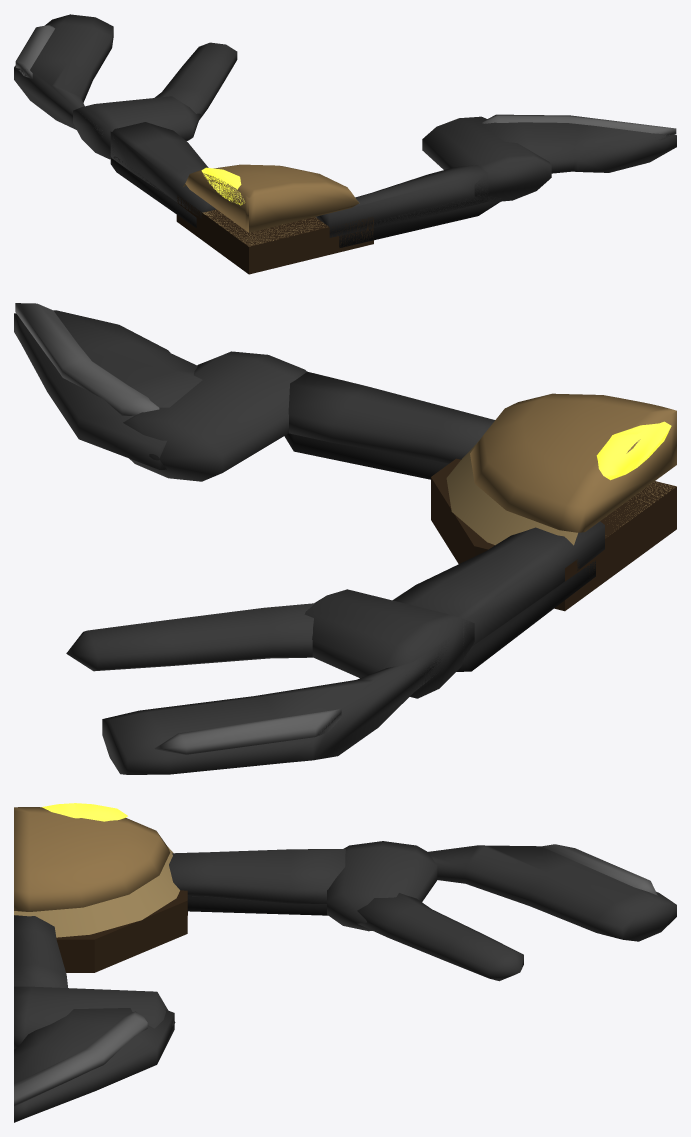
Rendered from newsh-hash-3-f5.glb.
3 views of the same model, one above another, from view 1: azimuth 30°, elevation 25°; view 2: azimuth 150°, elevation 25°; view 3: azimuth 270°, elevation 25° (orthographic). The views are drawn at different scales.
Parts seen in each view (by area): view 1: newsh-hash-3-f5; view 2: newsh-hash-3-f5; view 3: newsh-hash-3-f5.
Part boxes in pixels (box(x1,y1,x2,y2)): newsh-hash-3-f5: box(14, 14, 676, 274); newsh-hash-3-f5: box(14, 303, 676, 774); newsh-hash-3-f5: box(14, 803, 676, 1122).
Bounding box in the file's own units: 1.62 × 0.289 × 1.8.
